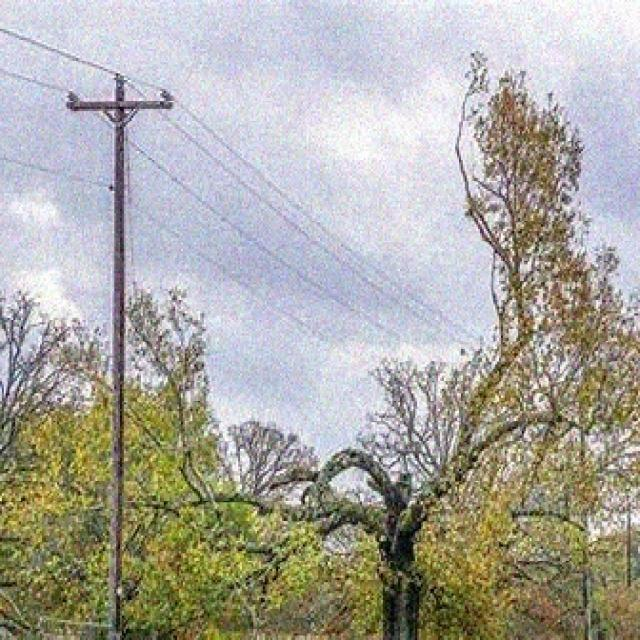utility poles: (61, 49, 175, 631)
